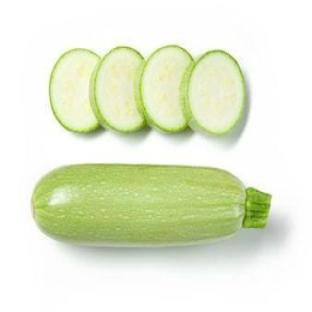Zucchini: (33, 165, 270, 245), (182, 51, 246, 134), (90, 47, 144, 131), (140, 46, 191, 131), (49, 48, 99, 131)
